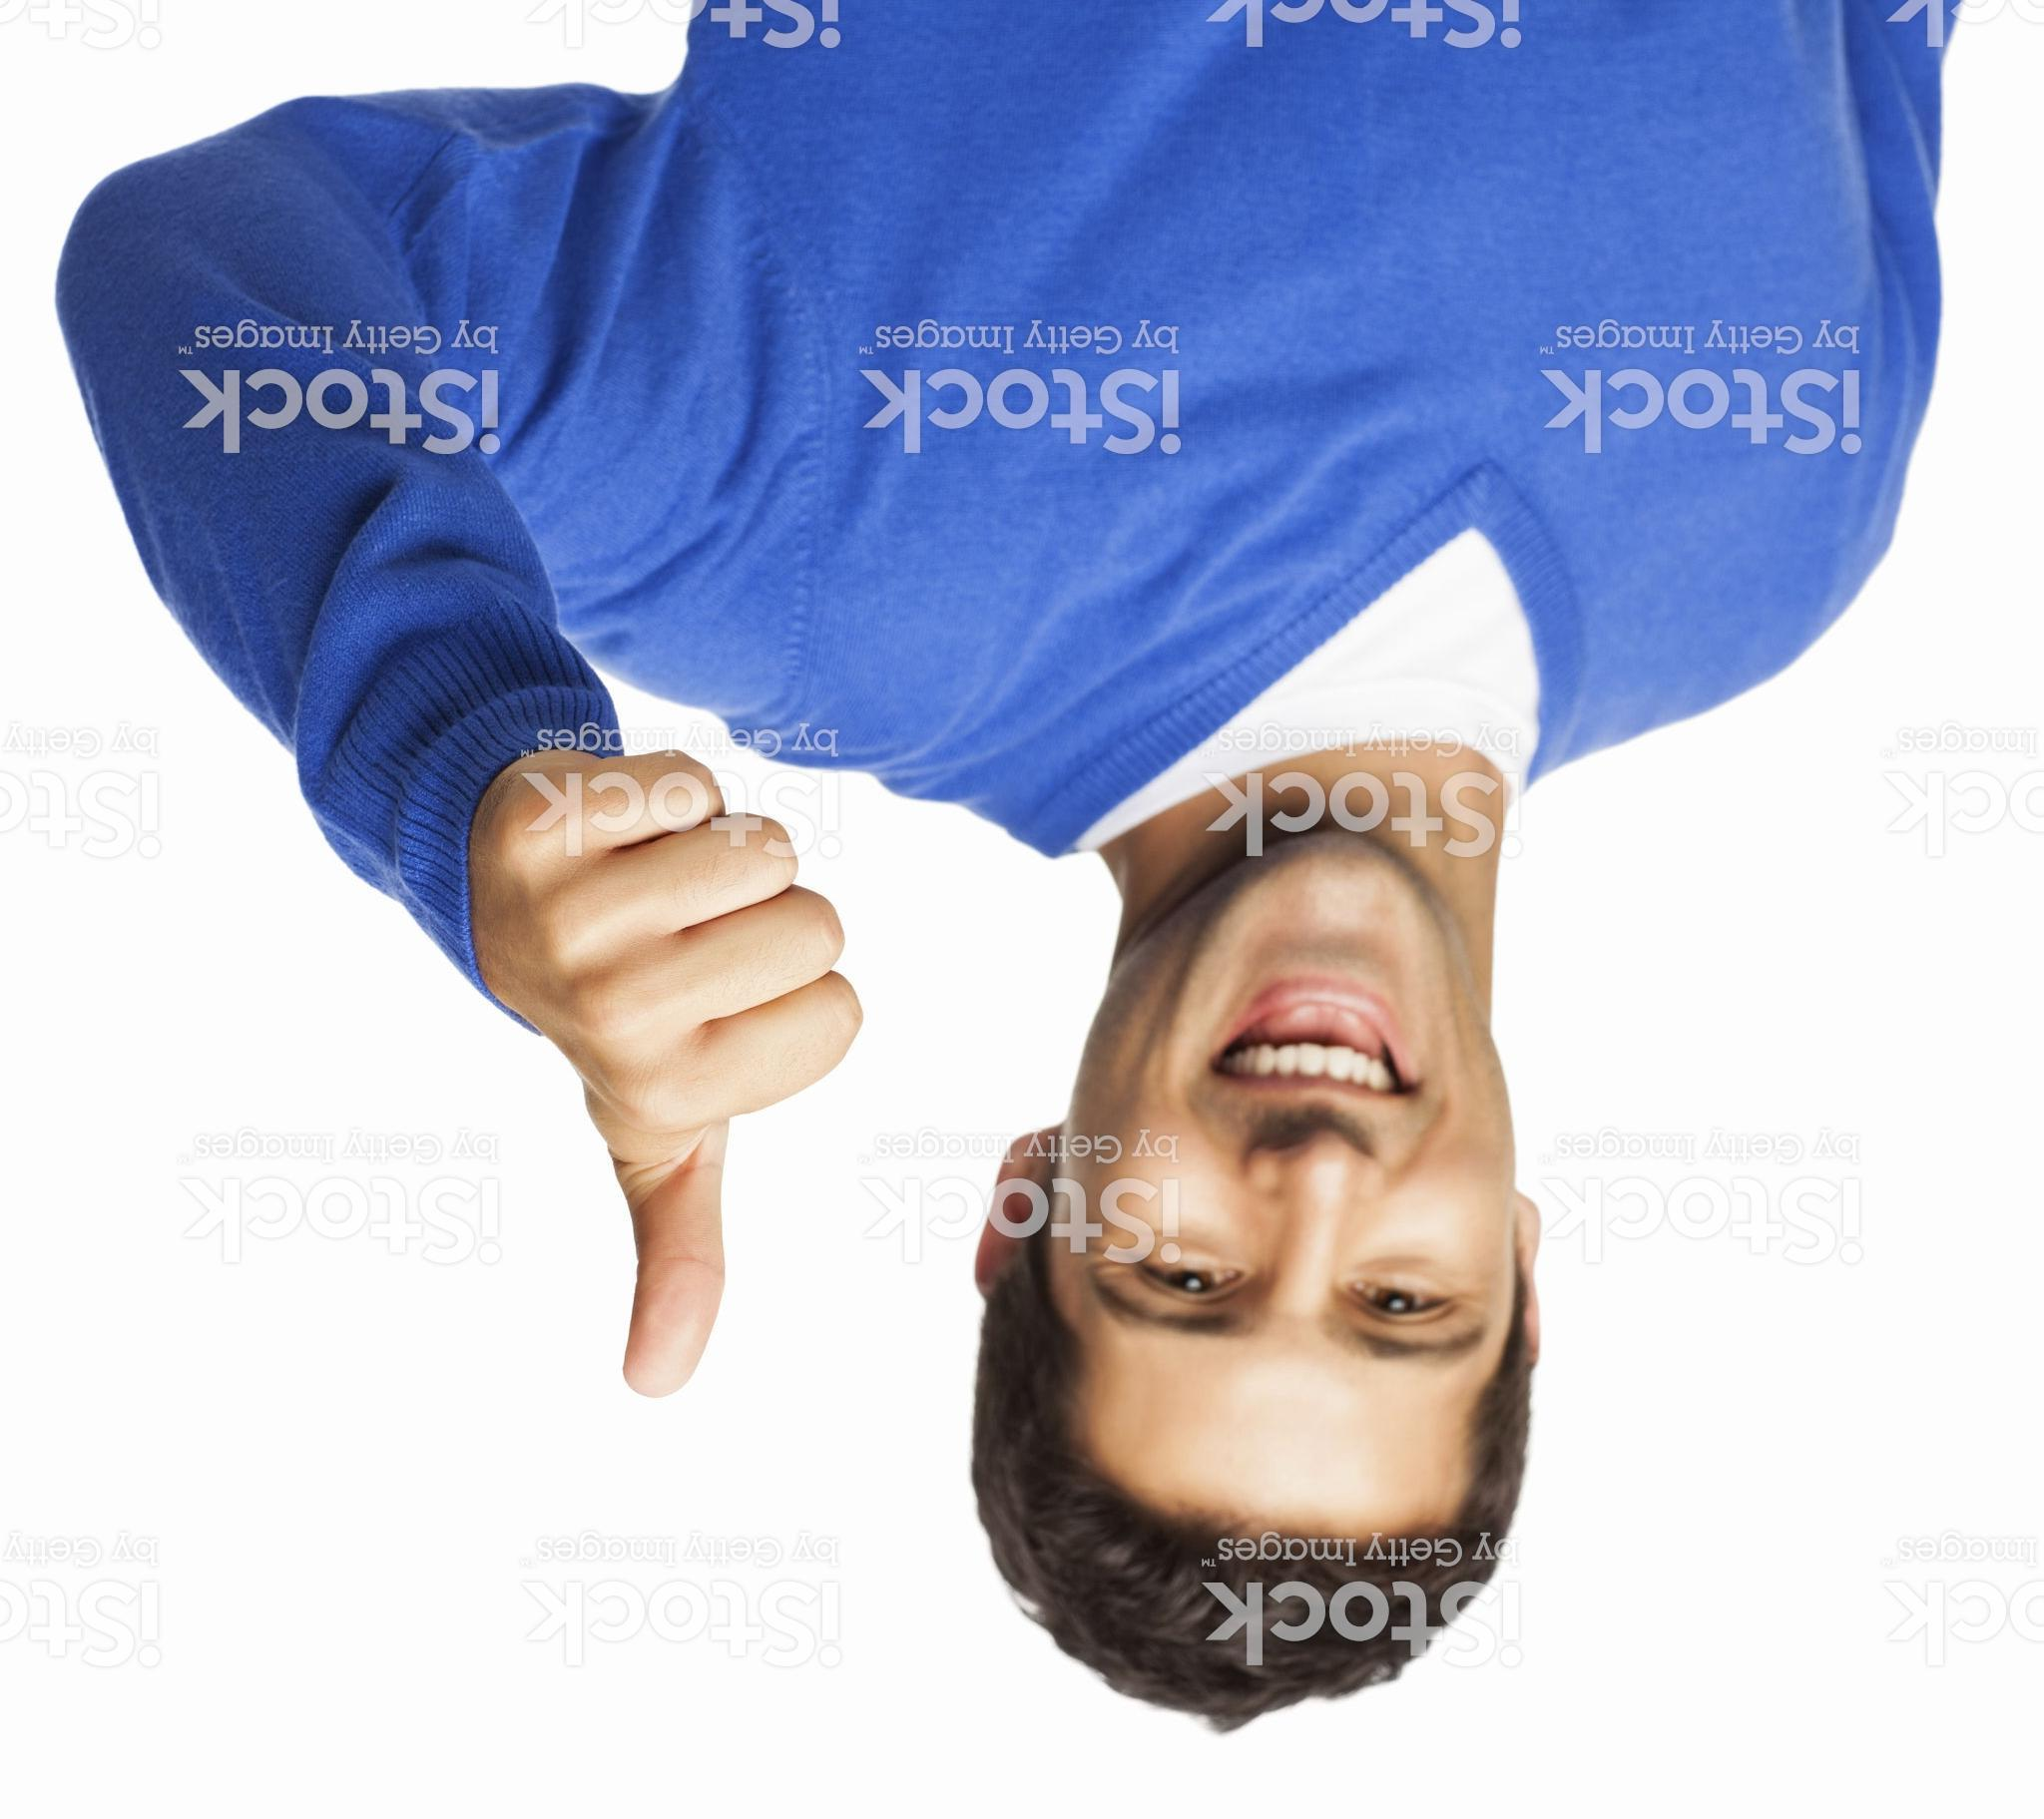thumbsdown: (515, 751, 871, 1398)
